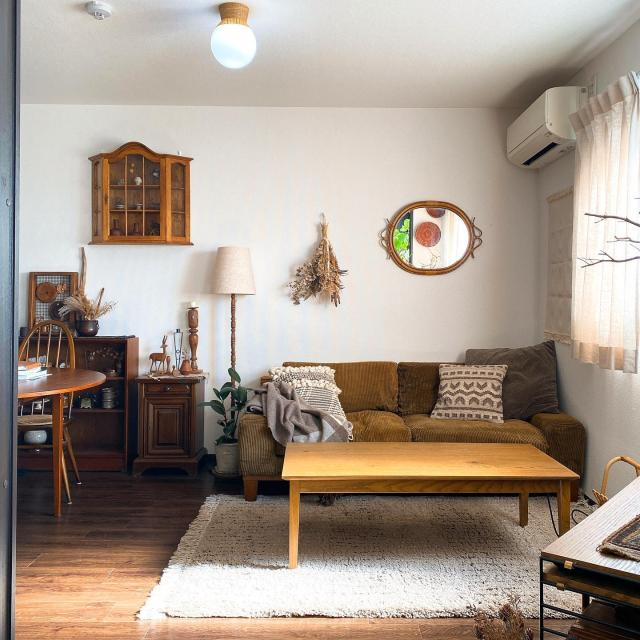vintage desk: (283, 439, 580, 561), (0, 363, 109, 517)
vintage sofa: (238, 356, 588, 451)
